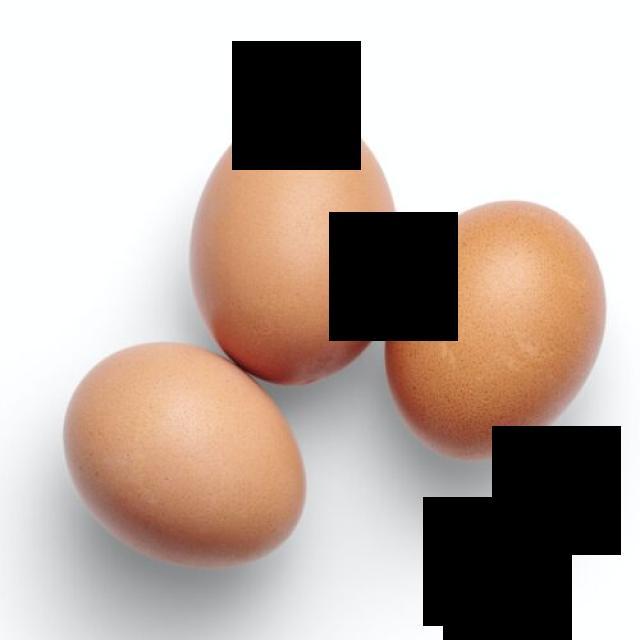eggs: (384, 201, 609, 465), (189, 111, 401, 388), (61, 343, 308, 573)
